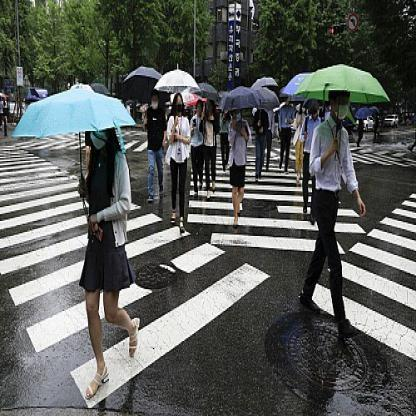Umbrella: (12, 79, 145, 147), (280, 56, 398, 108), (152, 60, 208, 110), (222, 82, 277, 115), (120, 58, 170, 92), (190, 74, 221, 112), (248, 68, 280, 96), (82, 74, 112, 100)
